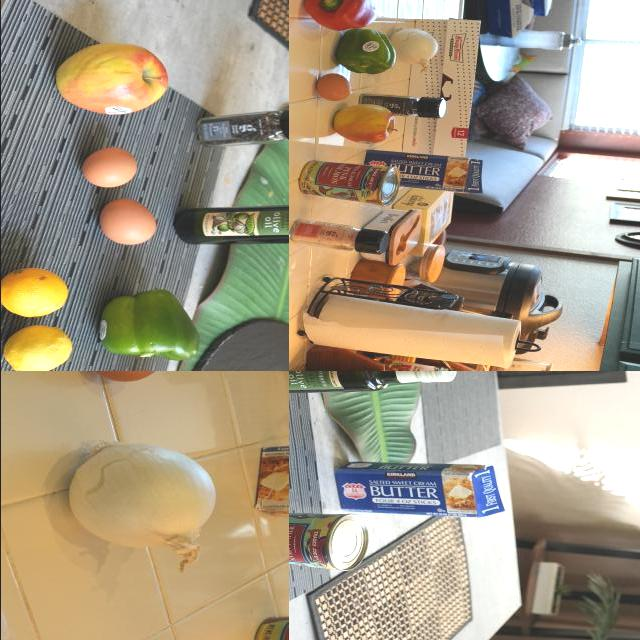bell_pepper: (197, 101, 289, 152), (301, 1, 375, 34), (335, 33, 397, 72), (363, 90, 449, 118)
egg: (1, 264, 76, 321), (92, 198, 158, 257), (4, 324, 80, 372), (74, 145, 142, 198), (85, 372, 171, 388), (313, 74, 353, 102)
onion: (59, 427, 221, 569), (389, 27, 439, 75)
